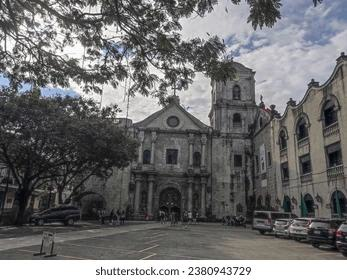san_agustin_church_intramuros_manila: (131, 54, 259, 226)
